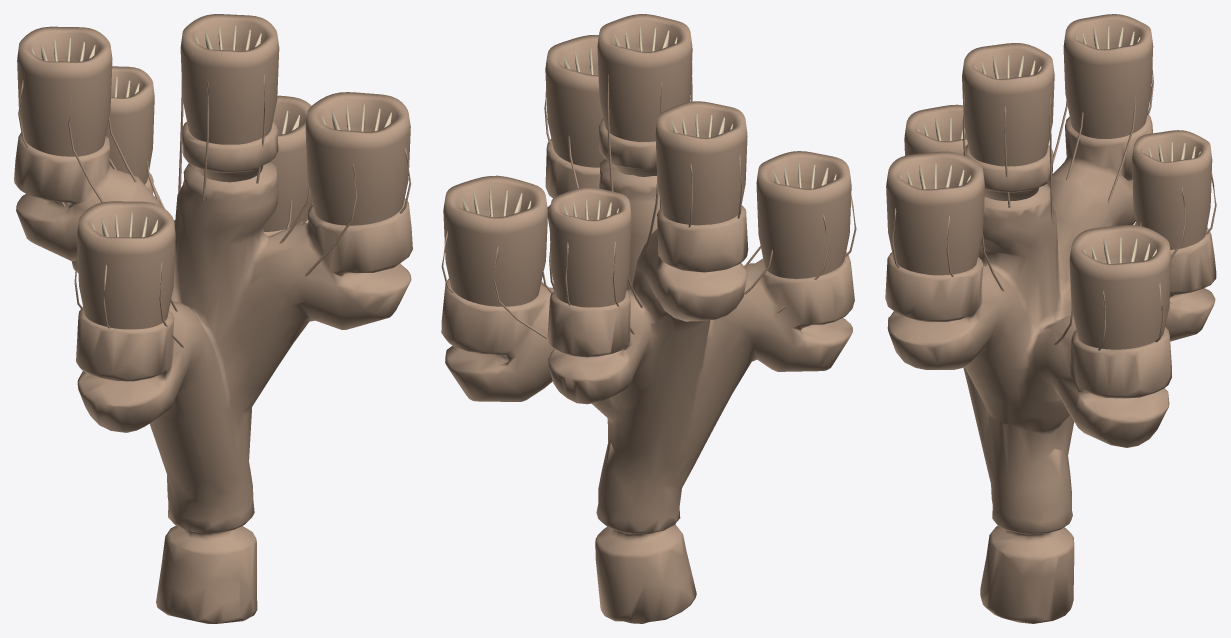
The model's file is thecosmilia.glb.
3 views of the same model, side by side, from view 1: azimuth 30°, elevation 25°; view 2: azimuth 150°, elevation 25°; view 3: azimuth 270°, elevation 25° (orthographic). The views are drawn at different scales.
Parts seen in each view (by area): view 1: naturally-forked-thick-branch-corallum, six-deep-thick-walled-terminal-cups, restrained-longitudinal-corallite-costae, simplified-unequal-radial-cup-septa; view 2: naturally-forked-thick-branch-corallum, six-deep-thick-walled-terminal-cups, restrained-longitudinal-corallite-costae, simplified-unequal-radial-cup-septa; view 3: naturally-forked-thick-branch-corallum, six-deep-thick-walled-terminal-cups, restrained-longitudinal-corallite-costae, simplified-unequal-radial-cup-septa.
Boxes of the visible parts, bbox=[...] form: naturally-forked-thick-branch-corallum: bbox=[14, 121, 412, 623]; six-deep-thick-walled-terminal-cups: bbox=[17, 14, 410, 329]; restrained-longitudinal-corallite-costae: bbox=[18, 75, 411, 347]; simplified-unequal-radial-cup-septa: bbox=[32, 25, 391, 237]; naturally-forked-thick-branch-corallum: bbox=[441, 118, 854, 623]; six-deep-thick-walled-terminal-cups: bbox=[443, 14, 851, 307]; restrained-longitudinal-corallite-costae: bbox=[441, 62, 856, 338]; simplified-unequal-radial-cup-septa: bbox=[462, 27, 836, 219]; naturally-forked-thick-branch-corallum: bbox=[885, 115, 1216, 623]; six-deep-thick-walled-terminal-cups: bbox=[886, 14, 1212, 349]; restrained-longitudinal-corallite-costae: bbox=[892, 66, 1216, 350]; simplified-unequal-radial-cup-septa: bbox=[900, 26, 1200, 263].
Size of the model in its own units: 0.1153 by 0.2005 by 0.1093.
